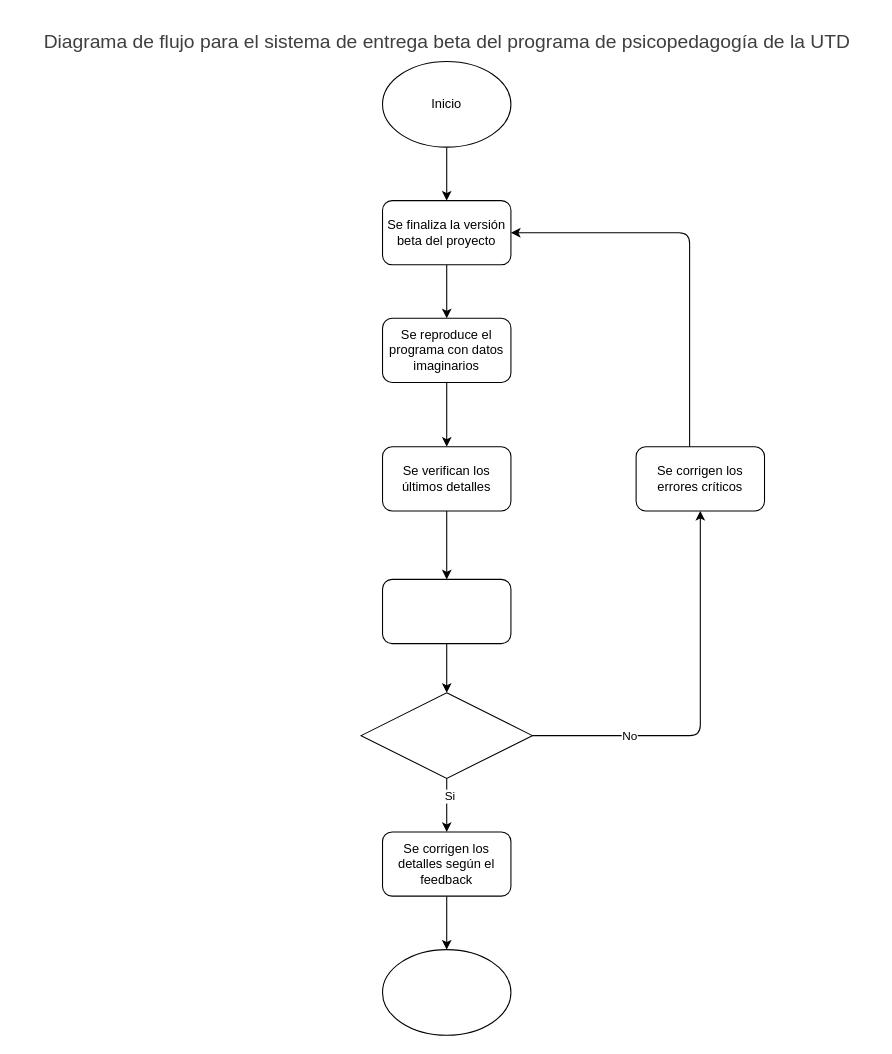
The diagram is 892 pixels wide and 1054 high, and some of its shapes have lost their labels. Each missing label, with the centre of its shape:
"Fin" belongs at [446,992].
"Se entrega el beta al jefe de departamento" belongs at [446,611].
"¿Aprueba?" belongs at [446,735].
